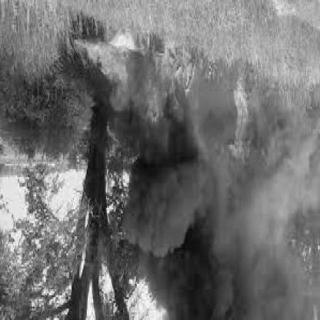Fire: (65, 21, 197, 167), (225, 65, 257, 173)
Smoke: (124, 170, 304, 316)
